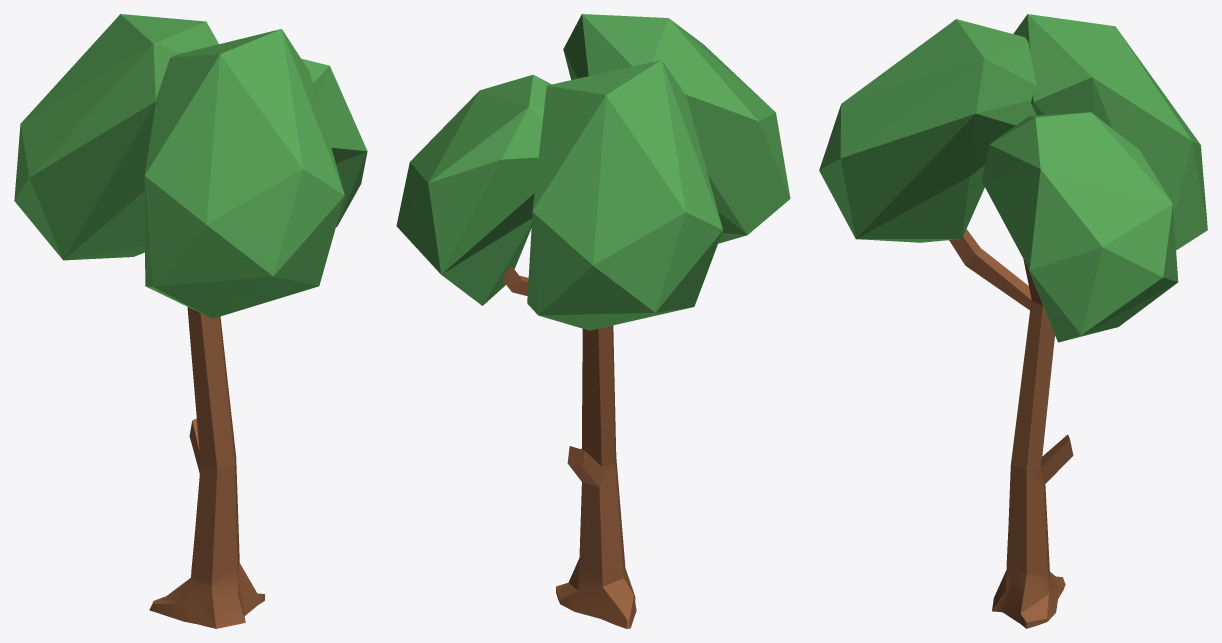
Rendered from foliage_tree_01_split_grp.fbx.
The picture shows the model from 3 angles, left to right: view 1: azimuth 30°, elevation 25°; view 2: azimuth 150°, elevation 25°; view 3: azimuth 270°, elevation 25°; orthographic projection. The views are drawn at different scales.
Visible parts, largest first — view 1: foliage_tree_01_split_1, foliage_tree_01_split_6, foliage_tree_01_split_3, foliage_tree_01_split_4, foliage_tree_01_split_2, foliage_tree_01_split_5; view 2: foliage_tree_01_split_1, foliage_tree_01_split_6, foliage_tree_01_split_4, foliage_tree_01_split_3, foliage_tree_01_split_5, foliage_tree_01_split_2; view 3: foliage_tree_01_split_1, foliage_tree_01_split_6, foliage_tree_01_split_4, foliage_tree_01_split_3, foliage_tree_01_split_2, foliage_tree_01_split_5.
Part boxes in pixels (x1,y1,x2,y2): foliage_tree_01_split_1: (14, 14, 367, 318); foliage_tree_01_split_6: (149, 563, 264, 628); foliage_tree_01_split_3: (193, 376, 236, 468); foliage_tree_01_split_4: (189, 418, 238, 532); foliage_tree_01_split_2: (187, 307, 226, 386); foliage_tree_01_split_5: (191, 519, 239, 581); foliage_tree_01_split_1: (396, 14, 790, 330); foliage_tree_01_split_6: (556, 558, 636, 628); foliage_tree_01_split_4: (567, 446, 620, 528); foliage_tree_01_split_3: (581, 385, 616, 466); foliage_tree_01_split_5: (579, 516, 624, 575); foliage_tree_01_split_2: (582, 325, 614, 393); foliage_tree_01_split_1: (819, 14, 1207, 342); foliage_tree_01_split_6: (992, 563, 1065, 628); foliage_tree_01_split_4: (1008, 434, 1073, 530); foliage_tree_01_split_3: (1010, 381, 1050, 470); foliage_tree_01_split_2: (1020, 310, 1054, 390); foliage_tree_01_split_5: (1006, 518, 1049, 574).
Bounding box in the file's own units: 403 × 692 × 426.
